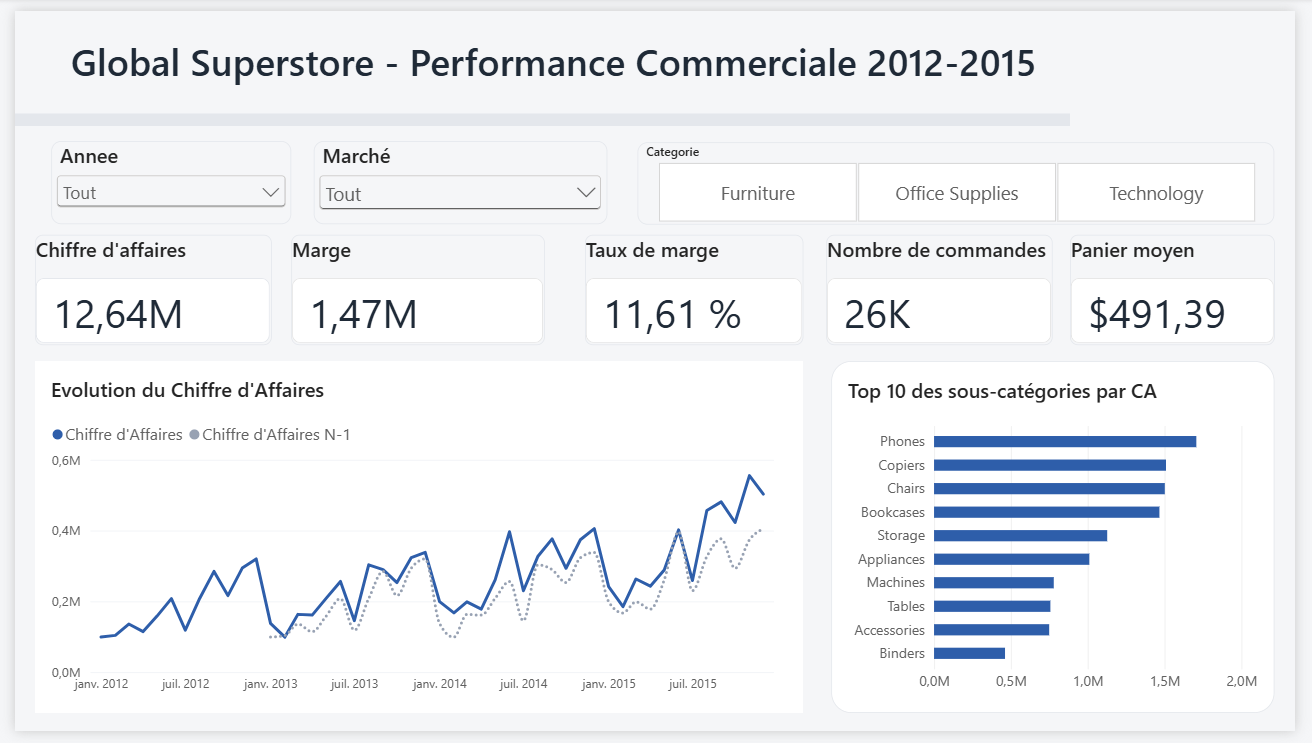

Layout of this report page (visuals, bound fields, positions):
{"tool":"powerbi","page":{"name":"Synthèse","canvas":[1280,720],"ordinal":0},"visuals":[{"type":"textbox","box":[0,0,1054.5,77.3],"z":0},{"type":"shape","box":[0,102.5,1055,12.5],"z":1000},{"type":"slicer","fields":{"Values":["Dates.Annee"]},"box":[36.7,130,240,83.3],"z":2000},{"type":"slicer","fields":{"Values":["Orders.Market"]},"box":[298.3,130,293.3,83.3],"z":3000},{"type":"slicer","fields":{"Values":["Orders.Category"]},"box":[622.9,130.8,637.2,82.5],"z":4000},{"type":"cardVisual","title":"Chiffre d''affaires","fields":{"Data":["Mesures_DAX.Chiffre_d_Affaires"]},"box":[20,223.3,236.7,110],"z":5000},{"type":"cardVisual","title":"Marge","fields":{"Data":["Mesures_DAX.Marge"]},"box":[276.7,223.3,253.3,110],"z":6000},{"type":"cardVisual","title":"Taux de marge","fields":{"Data":["Mesures_DAX.Taux de marge"]},"box":[570,223.3,218.3,110],"z":7000},{"type":"cardVisual","title":"Nombre de commandes","fields":{"Data":["Mesures_DAX.Nbre de commandes"]},"box":[811.7,223.3,226.7,110],"z":8000},{"type":"cardVisual","title":"Panier moyen","fields":{"Data":["Mesures_DAX.Panier moyen"]},"box":[1055,223.3,205,110],"z":9000},{"type":"lineChart","title":"Evolution du Chiffre d''Affaires","fields":{"Category":["Dates.Date.Variation.Hiérarchie de dates.Année","Dates.Date.Variation.Hiérarchie de dates.Mois"],"Y":["Mesures_DAX.Chiffre_d_Affaires","Mesures_DAX.Chiffre_d_Affaires_N-1"]},"box":[20,350,768.3,351.7],"z":10000},{"type":"clusteredBarChart","title":"Top 10 des sous-catégories par CA","fields":{"Category":["Orders.Sub-Category"],"Y":["Mesures_DAX.Chiffre_d_Affaires"]},"box":[816.7,350,443.3,351.7],"z":11000}]}

Visuals, with their boxes in screenshot pixels (x1, y1, x2, y2), scaled from the page's 1280x720 canvas onto the 1312x743 screenshot:
textbox: select_region(0, 0, 1081, 80)
shape: select_region(0, 106, 1081, 119)
slicer - Dates.Annee: select_region(38, 134, 284, 220)
slicer - Orders.Market: select_region(306, 134, 606, 220)
slicer - Orders.Category: select_region(638, 135, 1292, 220)
"Chiffre d''affaires" cardVisual: select_region(20, 230, 263, 344)
"Marge" cardVisual: select_region(284, 230, 543, 344)
"Taux de marge" cardVisual: select_region(584, 230, 808, 344)
"Nombre de commandes" cardVisual: select_region(832, 230, 1064, 344)
"Panier moyen" cardVisual: select_region(1081, 230, 1292, 344)
"Evolution du Chiffre d''Affaires" lineChart: select_region(20, 361, 808, 724)
"Top 10 des sous-catégories par CA" clusteredBarChart: select_region(837, 361, 1292, 724)
